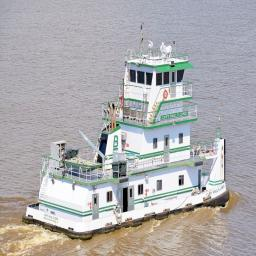tugboat: (21, 16, 235, 246)
